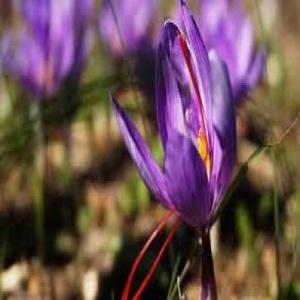Saffron: (116, 0, 240, 251)
